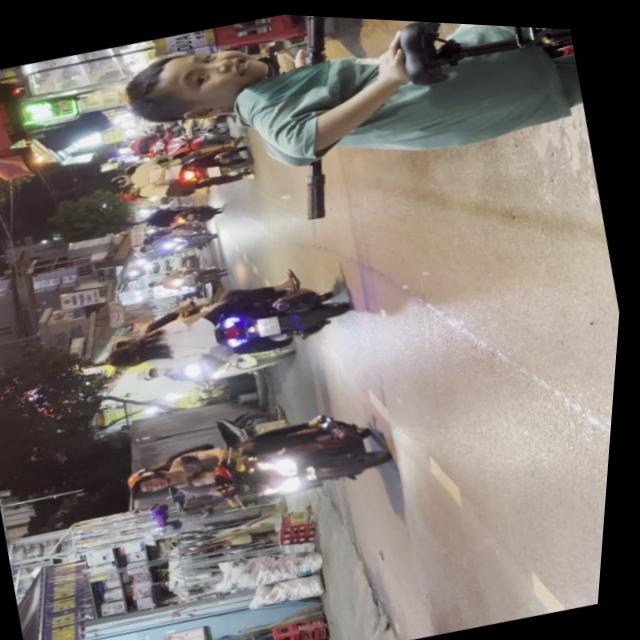helmet: (131, 463, 181, 498)
licenseplate: (121, 387, 404, 539), (91, 252, 363, 394)
motorcyclist: (105, 329, 169, 375), (190, 460, 233, 491)
nohelmet: (257, 312, 284, 336)
